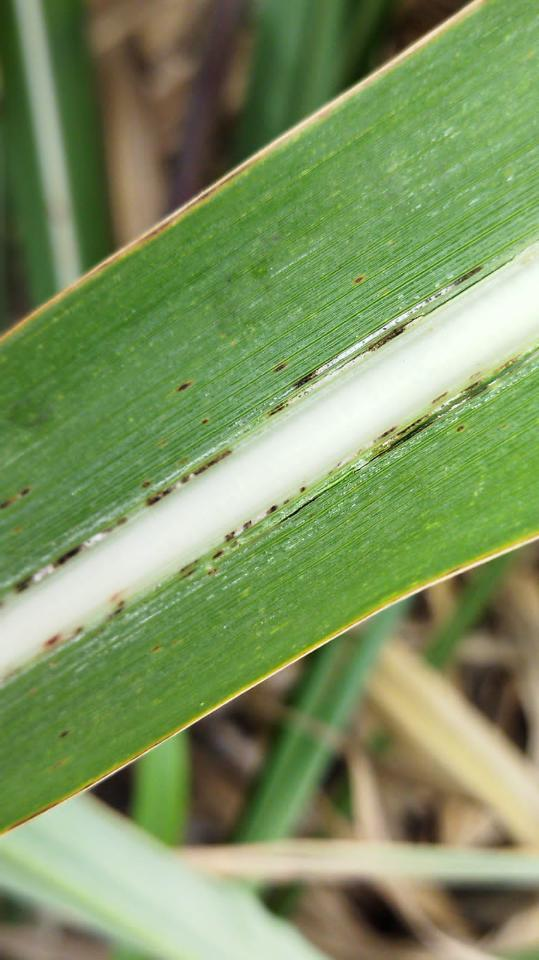Rust: (204, 348, 532, 578), (8, 444, 238, 600), (263, 264, 486, 423), (38, 588, 129, 656), (0, 478, 39, 516), (175, 556, 205, 581), (170, 376, 197, 397), (270, 361, 290, 376), (56, 727, 73, 741), (352, 272, 368, 286), (198, 414, 211, 427), (455, 423, 466, 434)
